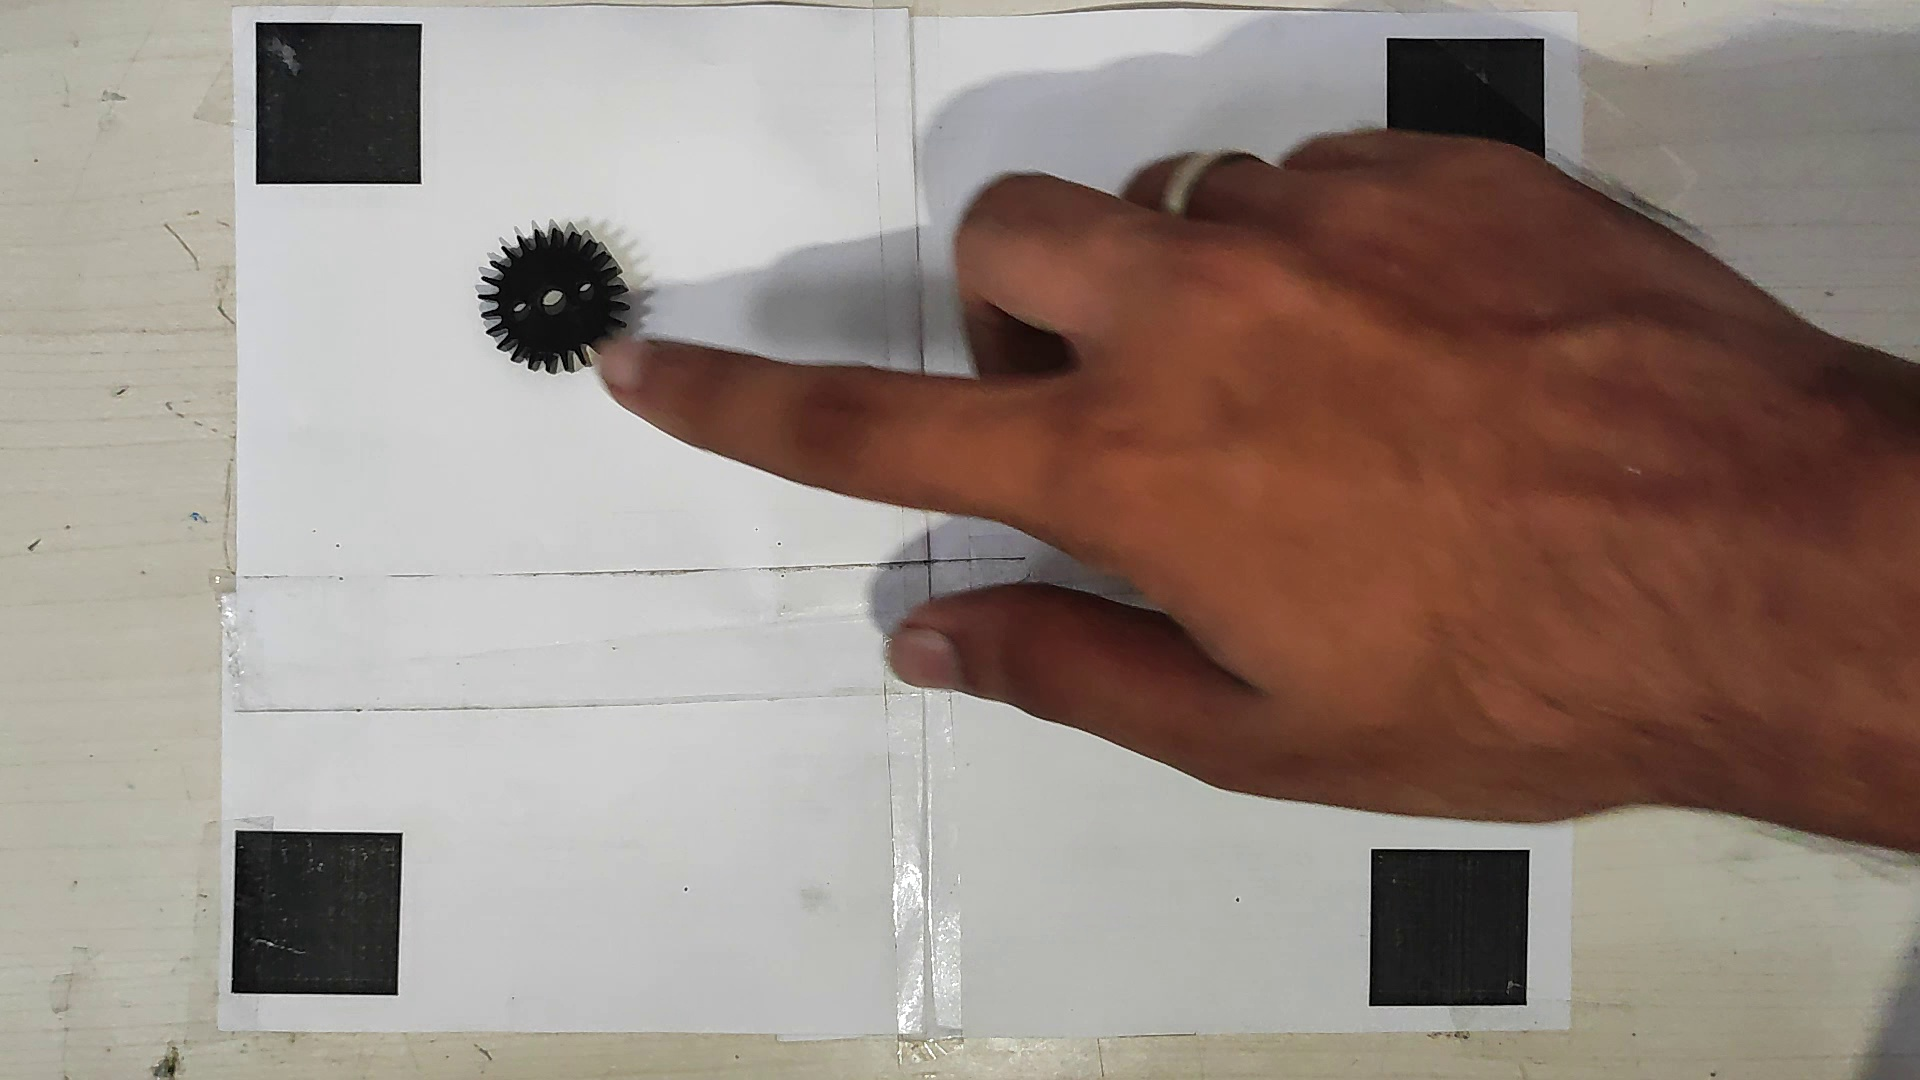Gear: (476, 218, 639, 377)
